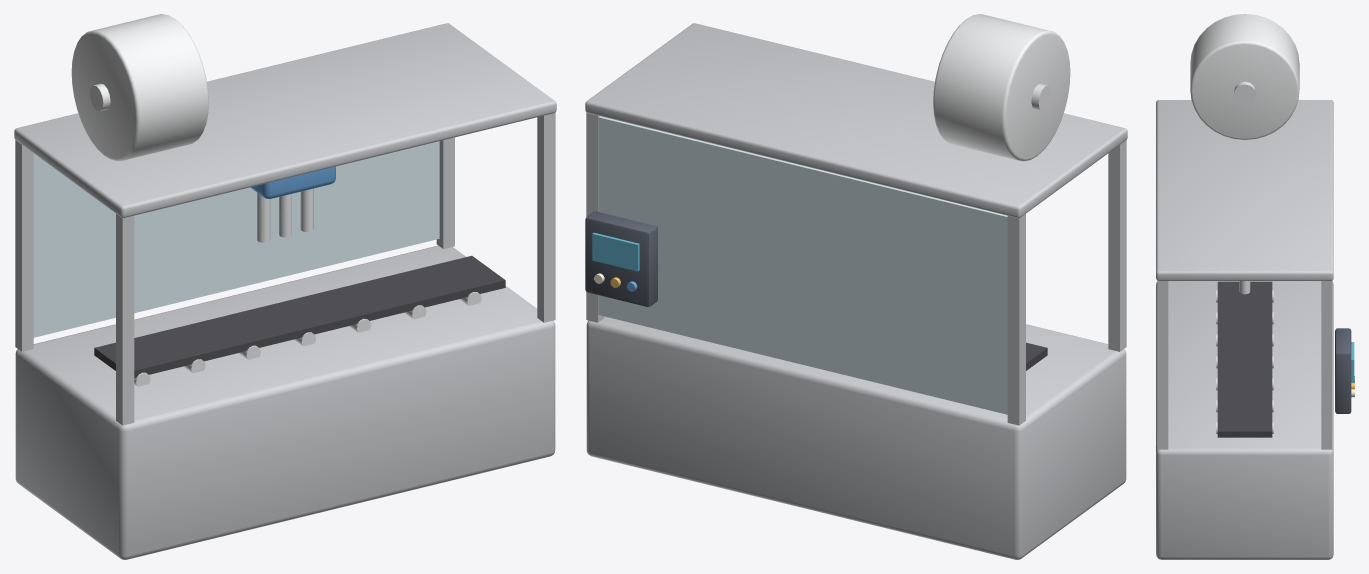
The model's file is RozlewKarton.fbx.
3 renders of one model, left to right at view 1: azimuth 30°, elevation 25°; view 2: azimuth 150°, elevation 25°; view 3: azimuth 270°, elevation 25°, orthographic. The views are drawn at different scales.
Visible parts, largest first — view 1: Maszyna_RozlewKarton_Korpus, Maszyna_RozlewKarton_Glowica_Tlok, Maszyna_RozlewKarton; view 2: Maszyna_RozlewKarton_Korpus; view 3: Maszyna_RozlewKarton_Korpus, Maszyna_RozlewKarton.
Boxes of the visible parts, bbox=[...] form: Maszyna_RozlewKarton_Korpus: bbox=[14, 14, 556, 559]; Maszyna_RozlewKarton_Glowica_Tlok: bbox=[250, 166, 335, 242]; Maszyna_RozlewKarton: bbox=[134, 292, 481, 386]; Maszyna_RozlewKarton_Korpus: bbox=[585, 14, 1127, 559]; Maszyna_RozlewKarton_Korpus: bbox=[1156, 14, 1354, 559]; Maszyna_RozlewKarton: bbox=[1216, 289, 1273, 433].
Bounding box in the file's own units: 3 × 3.31 × 1.45.
